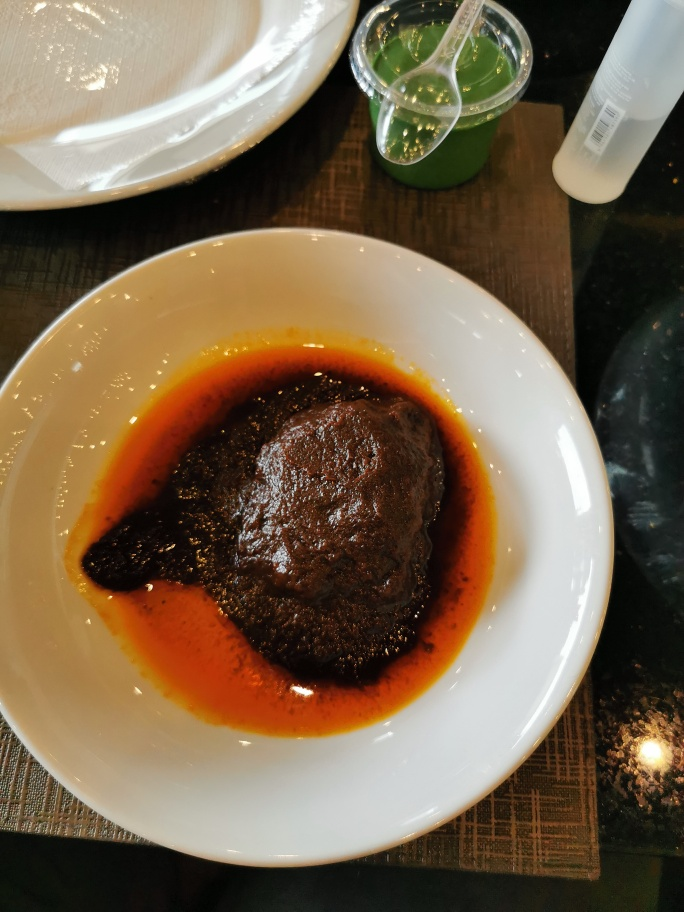rendang: (138, 378, 473, 689)
